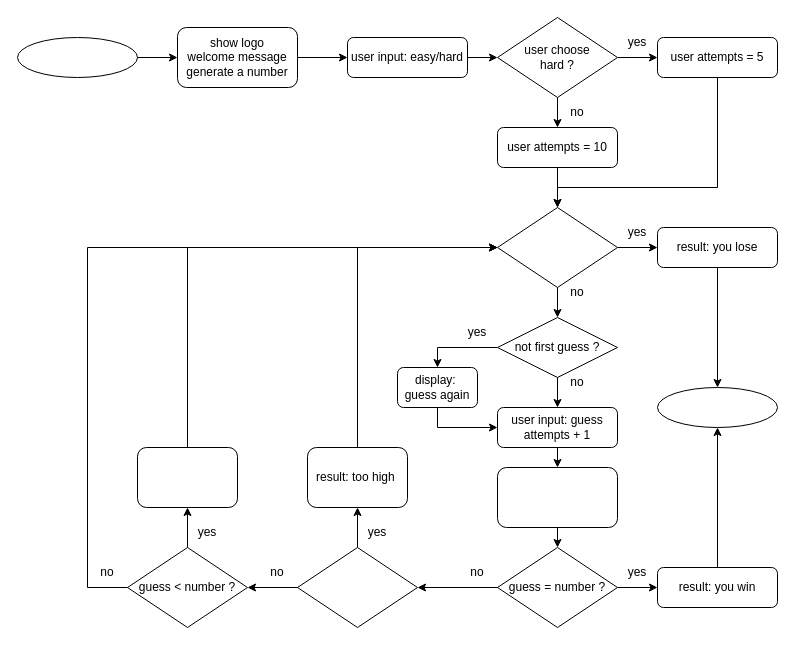
This 795x645 diagram has some shape labels left out. The centre of each missing label's shape, as x and y in pixels:
display attempts current guess: (x=557, y=497)
end: (x=717, y=407)
guess > number ?: (x=357, y=587)
result: too low: (x=187, y=477)
run out of attempts ?: (x=557, y=247)
start: (x=77, y=57)
